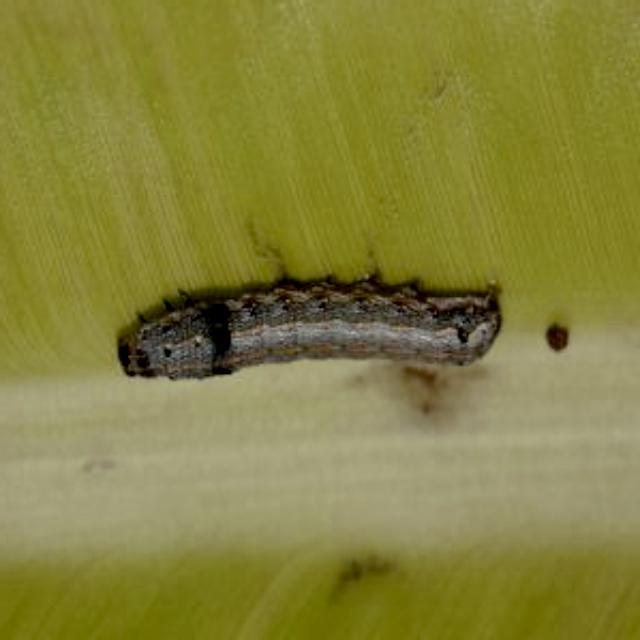Tobacco cutworm: (61, 204, 552, 438)
